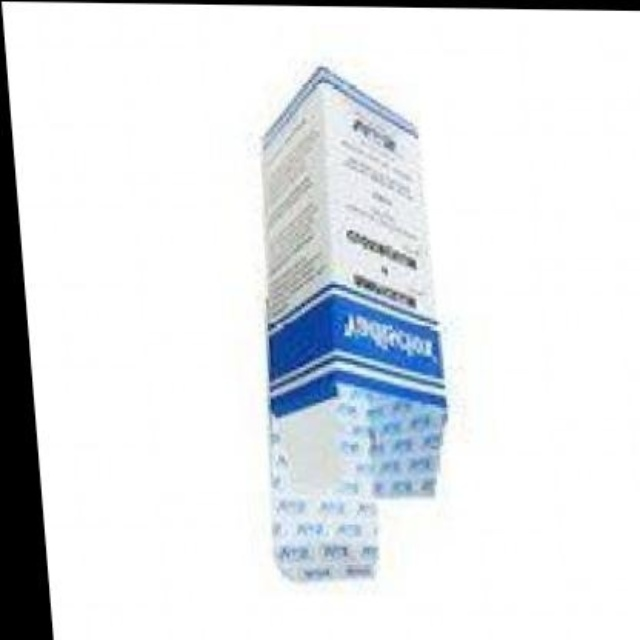trash: (262, 66, 445, 580)
